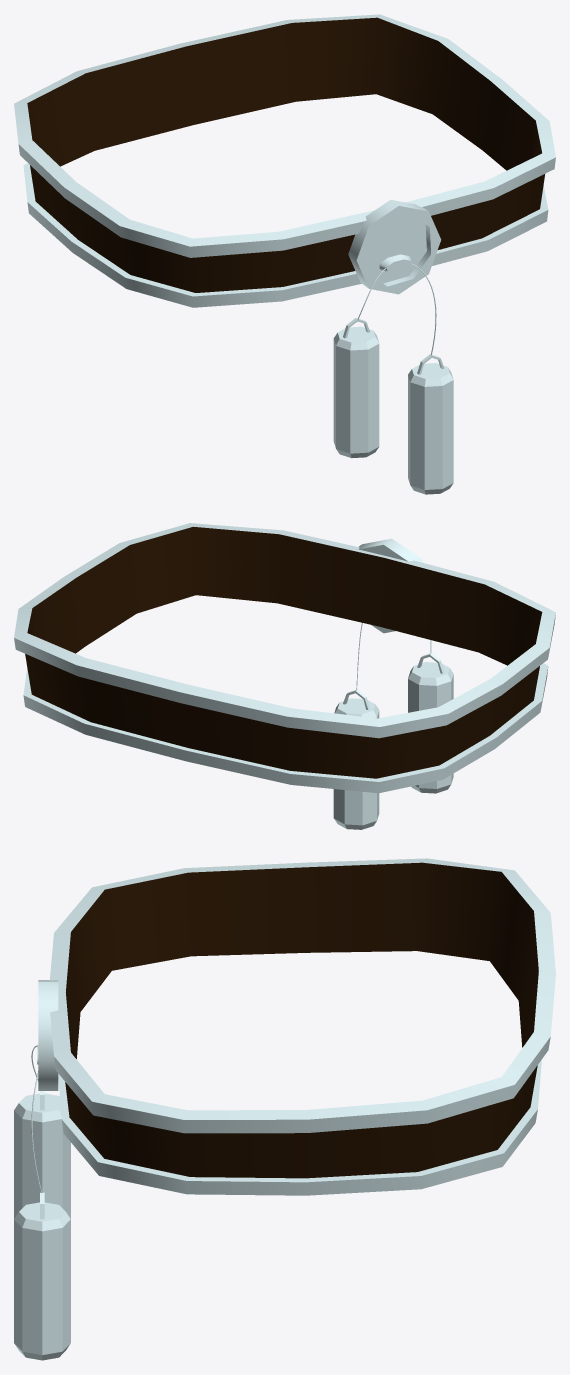
Rendered from Cinto.fbx.
3 renders of one model, top to bottom at view 1: azimuth 30°, elevation 25°; view 2: azimuth 150°, elevation 25°; view 3: azimuth 270°, elevation 25°, orthographic. The views are drawn at different scales.
Parts seen in each view (by area): view 1: Cinto, Contrapeso, Cylinder; view 2: Cinto, Contrapeso, Cylinder; view 3: Cinto, Contrapeso, Cylinder.
Boxes of the visible parts, left/top/right/bottom form: Cinto: left=14, top=14, right=555, bottom=307; Contrapeso: left=333, top=318, right=453, bottom=494; Cylinder: left=348, top=199, right=441, bottom=294; Cinto: left=14, top=523, right=555, bottom=793; Contrapeso: left=333, top=653, right=453, bottom=829; Cylinder: left=358, top=538, right=423, bottom=633; Cinto: left=49, top=858, right=555, bottom=1195; Contrapeso: left=14, top=1091, right=70, bottom=1360; Cylinder: left=37, top=980, right=58, bottom=1090.
Bounding box in the file's own units: 91.49 × 59.35 × 81.47.
